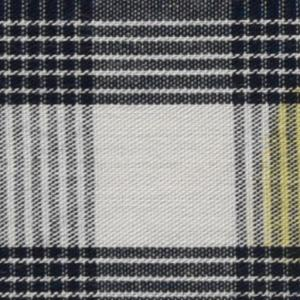Stain: (257, 85, 300, 252)
